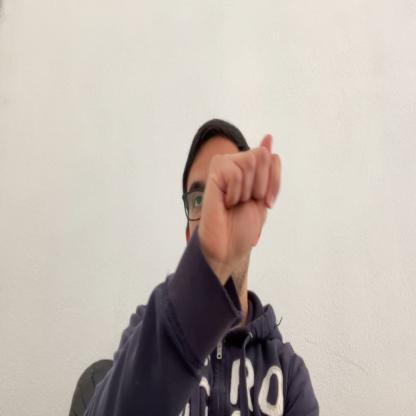T: (198, 133, 280, 277)
